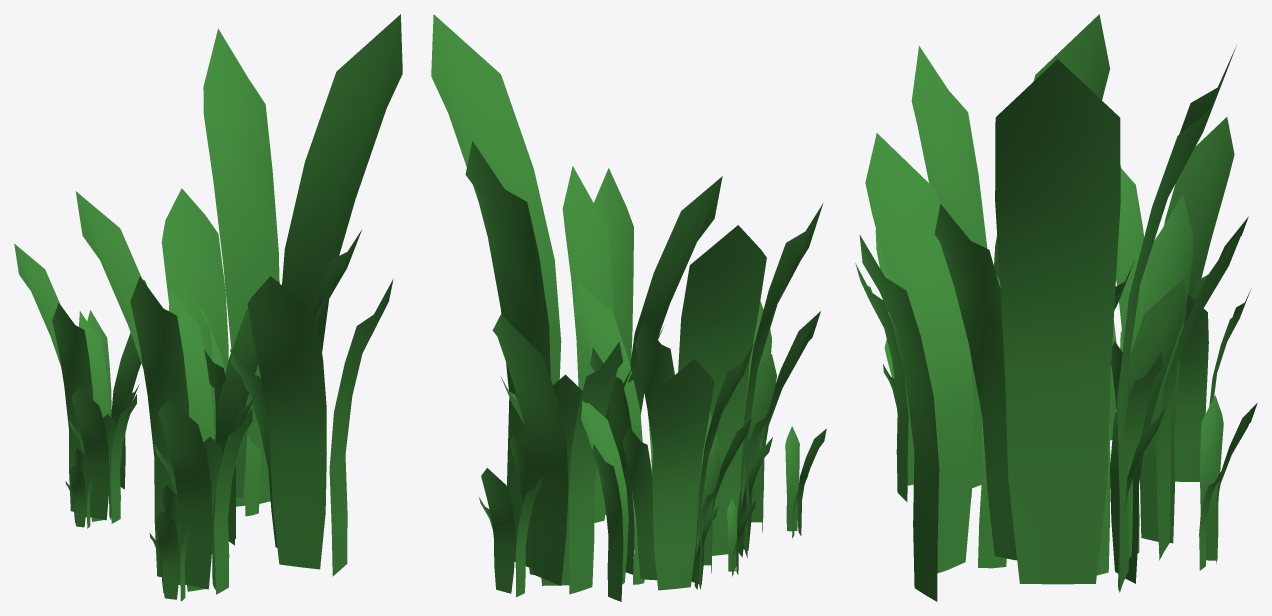
File: Grass01.glb
3 renders of one model, left to right at view 1: azimuth 30°, elevation 25°; view 2: azimuth 150°, elevation 25°; view 3: azimuth 270°, elevation 25°, orthographic. The views are drawn at different scales.
Parts seen in each view (by area): view 1: Grass; view 2: Grass; view 3: Grass.
Part boxes in pixels (box(x1,y1,x2,y2)): Grass: box(14, 14, 402, 601); Grass: box(431, 14, 826, 601); Grass: box(855, 14, 1257, 601).
Bounding box in the file's own units: 0.1321 × 0.1929 × 0.1149.
